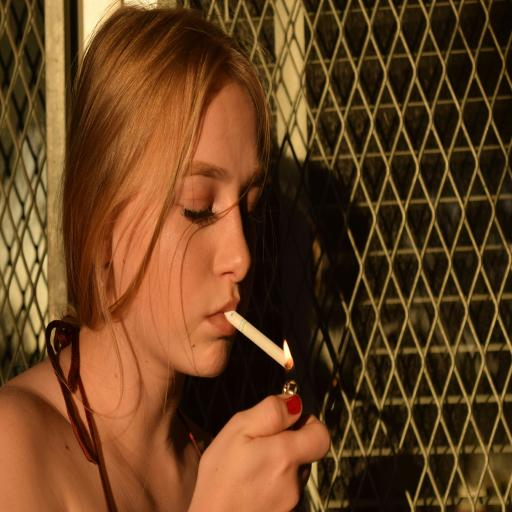lighter: (264, 336, 323, 444)
